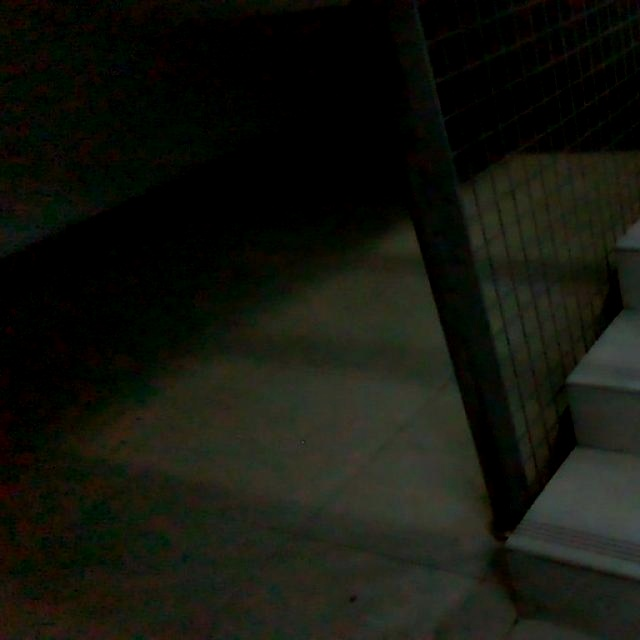stair: (511, 251, 640, 631)
